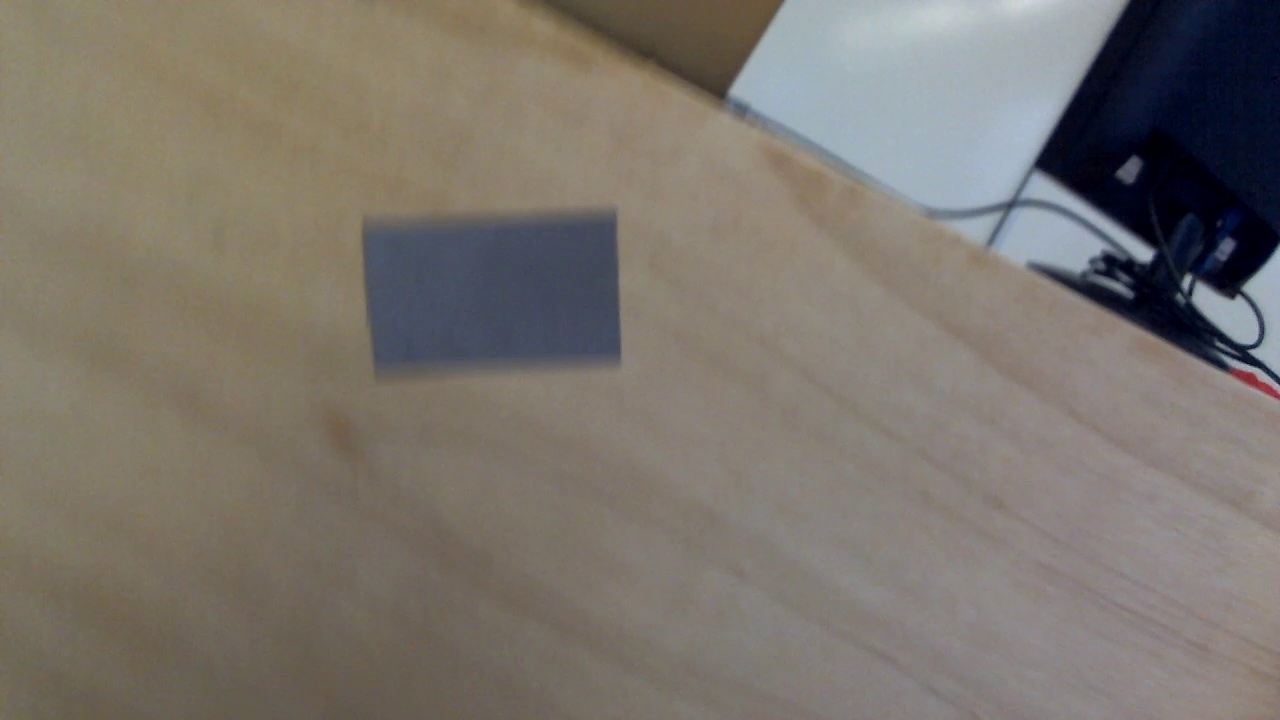Tape: (365, 211, 623, 373)
